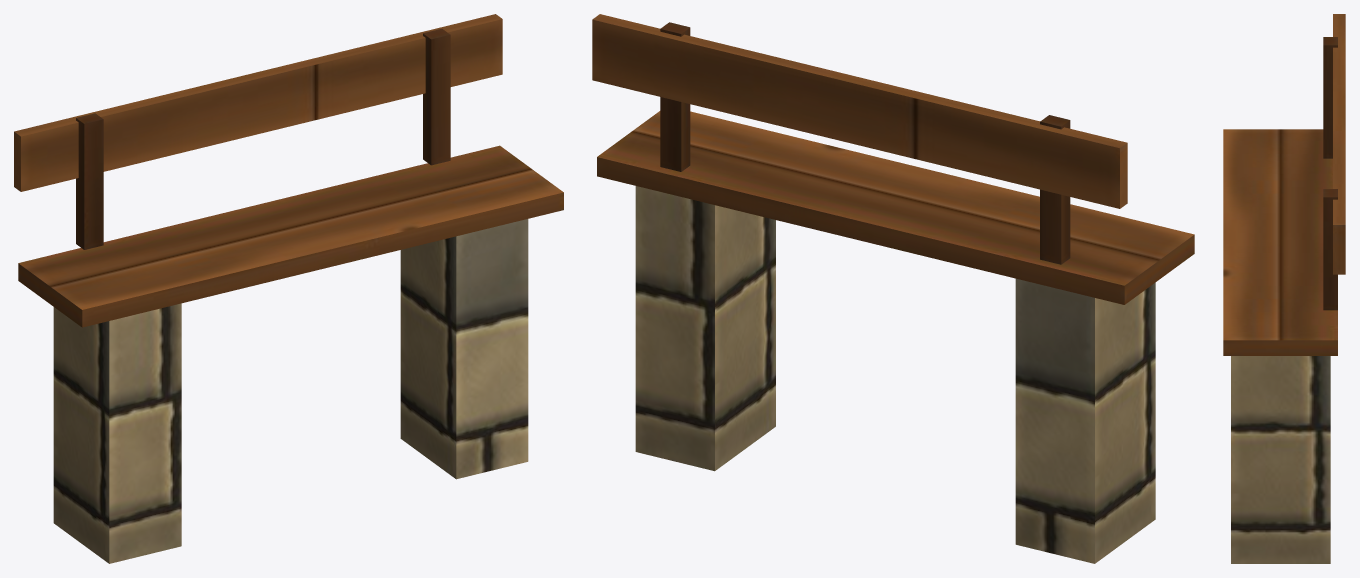
Rendered from park_bench.glb.
3 renders of one model, left to right at view 1: azimuth 30°, elevation 25°; view 2: azimuth 150°, elevation 25°; view 3: azimuth 270°, elevation 25°, orthographic. The views are drawn at different scales.
Parts seen in each view (by area): view 1: props_0_0; view 2: props_0_0; view 3: props_0_0.
Part boxes in pixels (x1,y1,x2,y2): props_0_0: (14,14,563,563); props_0_0: (592,14,1194,563); props_0_0: (1223,14,1345,563).
Size of the model in its own units: 2 by 1.57 by 0.49.
Materials: 1 (1 with a texture image).
